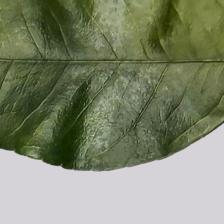healthy: (12, 8, 208, 147)
